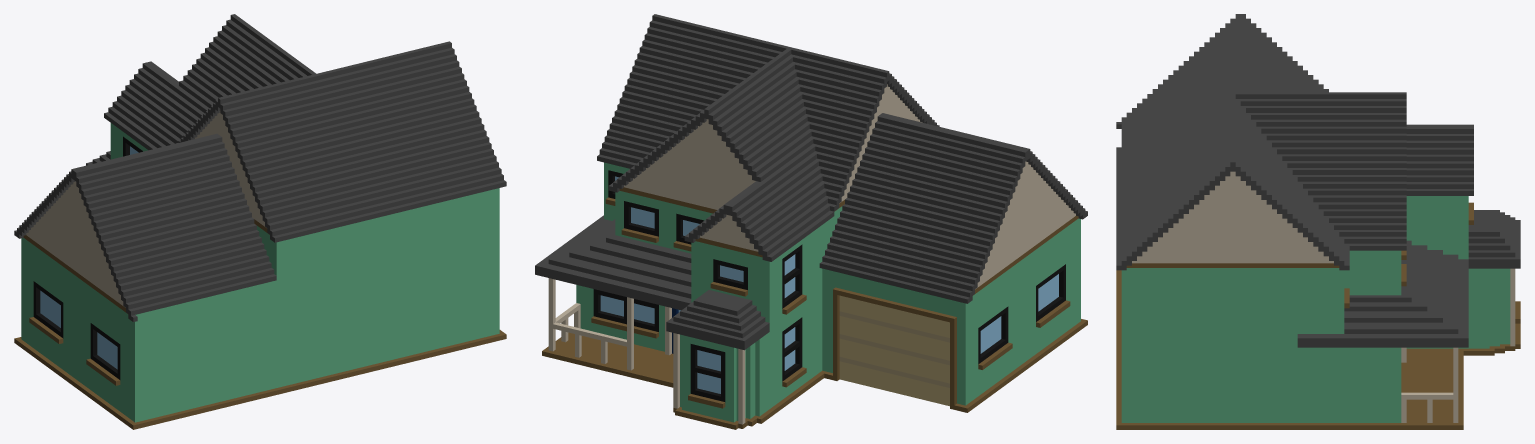
The model's file is Small_home_3.2.obj.
3 views of the same model, side by side, from view 1: azimuth 30°, elevation 25°; view 2: azimuth 150°, elevation 25°; view 3: azimuth 270°, elevation 25° (orthographic). The views are drawn at different scales.
Bounding box in the file's own units: 8.8 × 5.7 × 7.8.
Materials: 1 (1 with a texture image).
